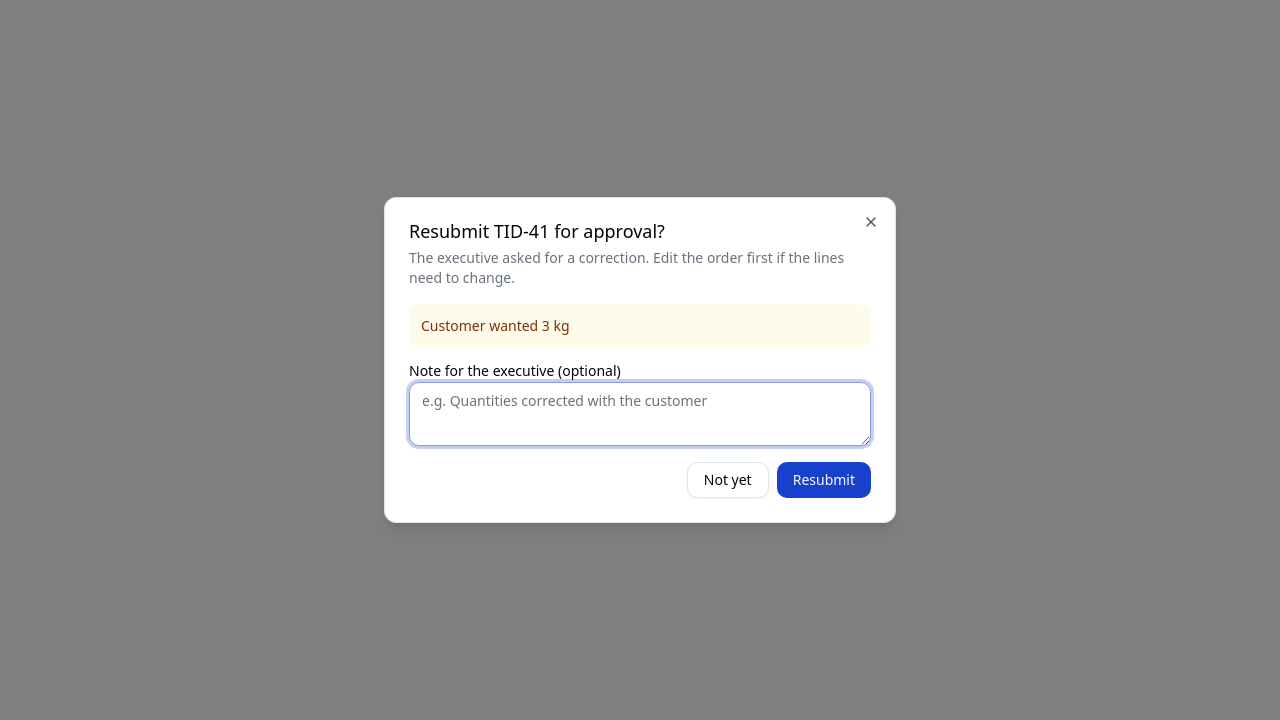
Test: resubmitting a returned desk order › keeps the dialog open with the server's reason when it is refused
What coordinates should you click on to do the following:
click the button "Resubmit"
I would click on:
 (824, 480)
Its box is [777,462,871,498].
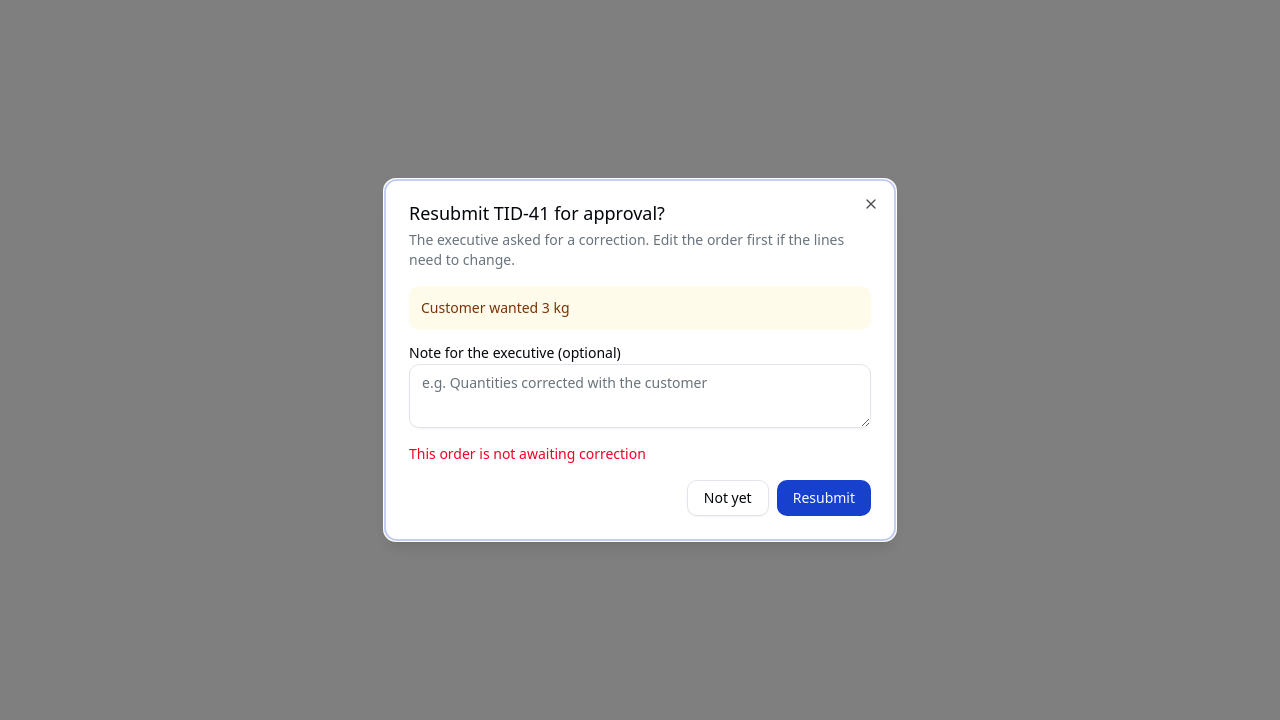
Now the text "This order is not awaiting correction" is shown, box [409,444,646,463]
